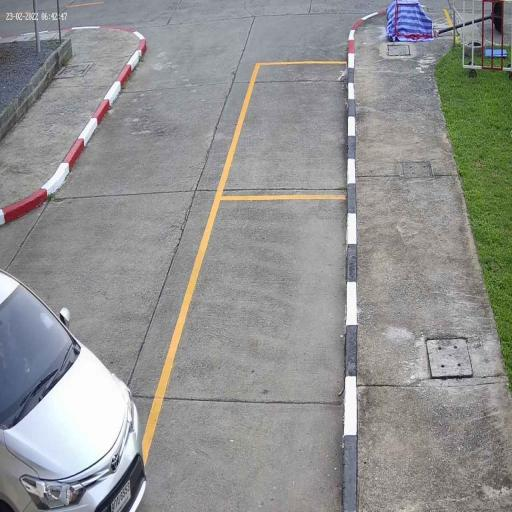car: (0, 268, 148, 511)
